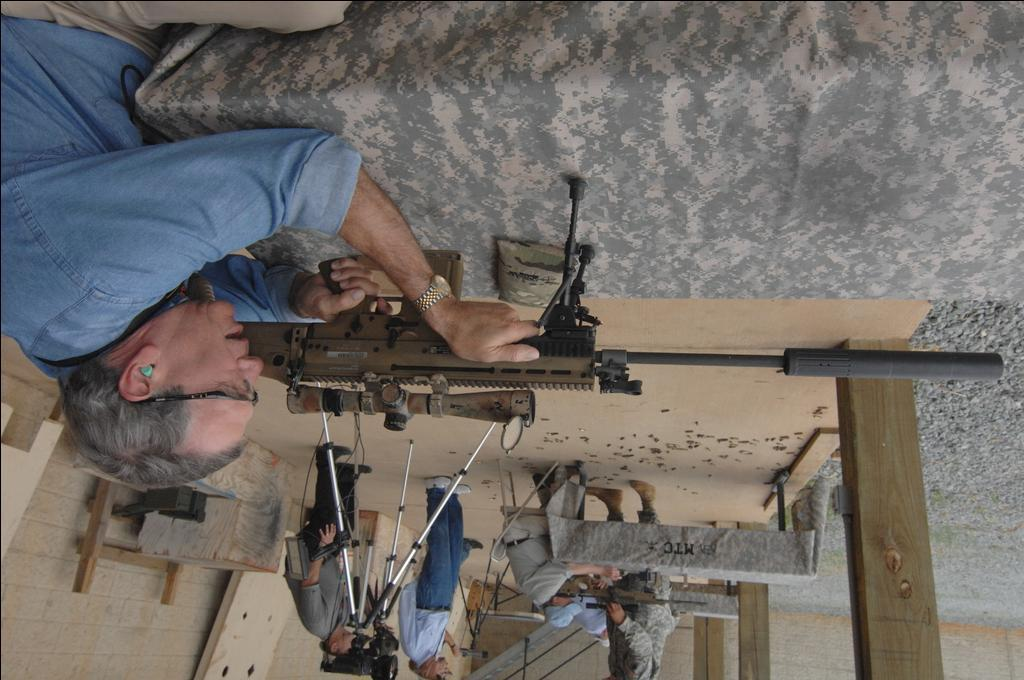gun: (247, 178, 1001, 447)
